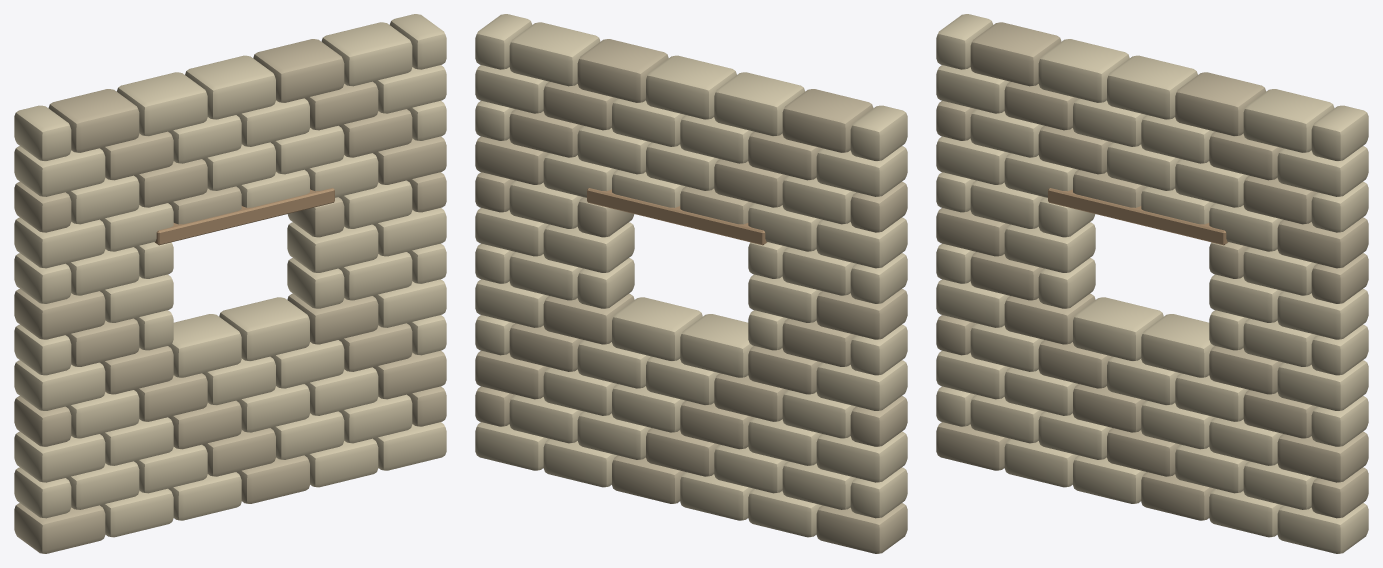
The model's file is build_wallwindow.glb.
3 renders of one model, left to right at view 1: azimuth 30°, elevation 25°; view 2: azimuth 150°, elevation 25°; view 3: azimuth 330°, elevation 25°, orthographic.
Visible parts, largest first — view 1: WallWindow; view 2: WallWindow; view 3: WallWindow.
Part boxes in pixels (bbox=[...]): WallWindow: bbox=[14, 14, 446, 553]; WallWindow: bbox=[475, 14, 907, 553]; WallWindow: bbox=[936, 14, 1368, 553].
Size of what is drawn, in the model's own units: 2.99 by 2.99 by 0.42.
